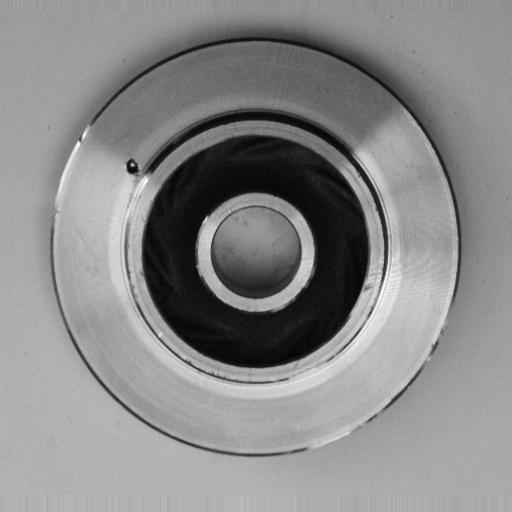pit: (114, 152, 146, 184)
scratch: (47, 36, 465, 461), (269, 358, 339, 394)
